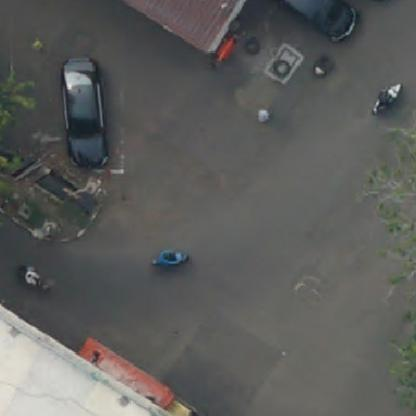Car: (73, 336, 198, 415), (62, 59, 114, 170), (275, 0, 363, 45)
Motorcycle: (150, 248, 188, 275), (372, 82, 402, 114), (20, 262, 52, 292)
